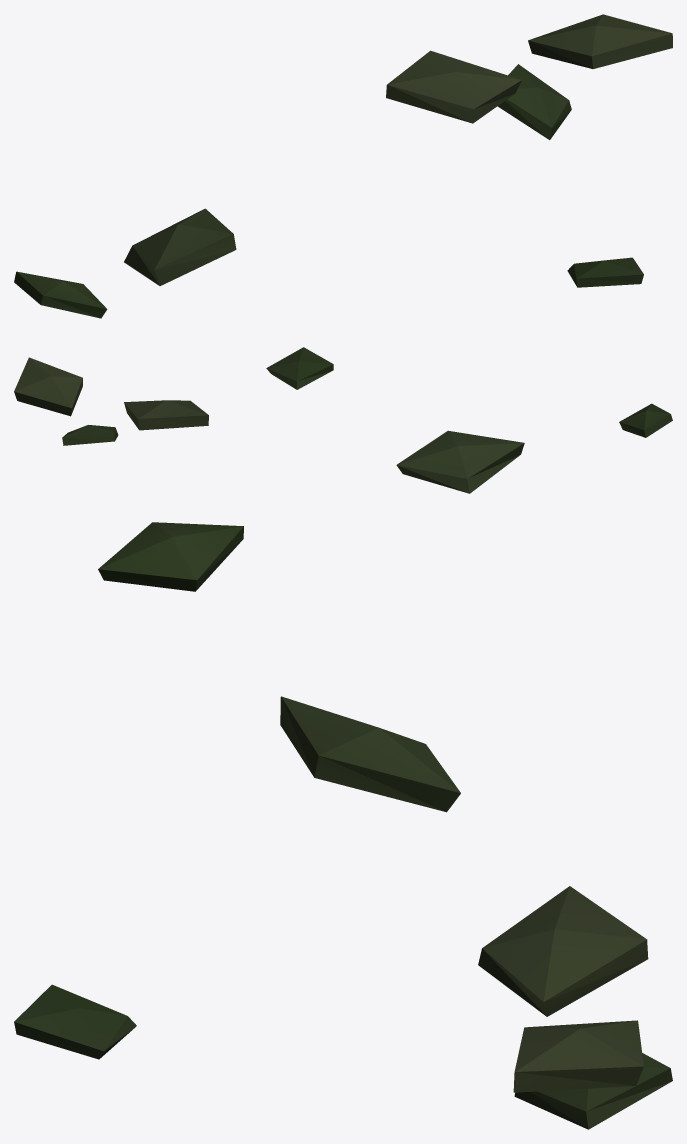
Rendered from leaf_pile_v1.glb.
The picture shows the model from 3 angles, top to bottom: view 1: azimuth 30°, elevation 25°; view 2: azimuth 150°, elevation 25°; view 3: azimuth 270°, elevation 25°; orthographic projection. The views are drawn at different scales.
Parts seen in each view (by area): view 1: leaf_pile_v1.glb; view 2: leaf_pile_v1.glb; view 3: leaf_pile_v1.glb.
Boxes of the visible parts, x1=… form: leaf_pile_v1.glb: x1=14, y1=14, x2=672, y2=318; leaf_pile_v1.glb: x1=14, y1=347, x2=672, y2=493; leaf_pile_v1.glb: x1=14, y1=522, x2=672, y2=1129.
Size of the model in its own units: 1 by 0.1264 by 0.5242.
